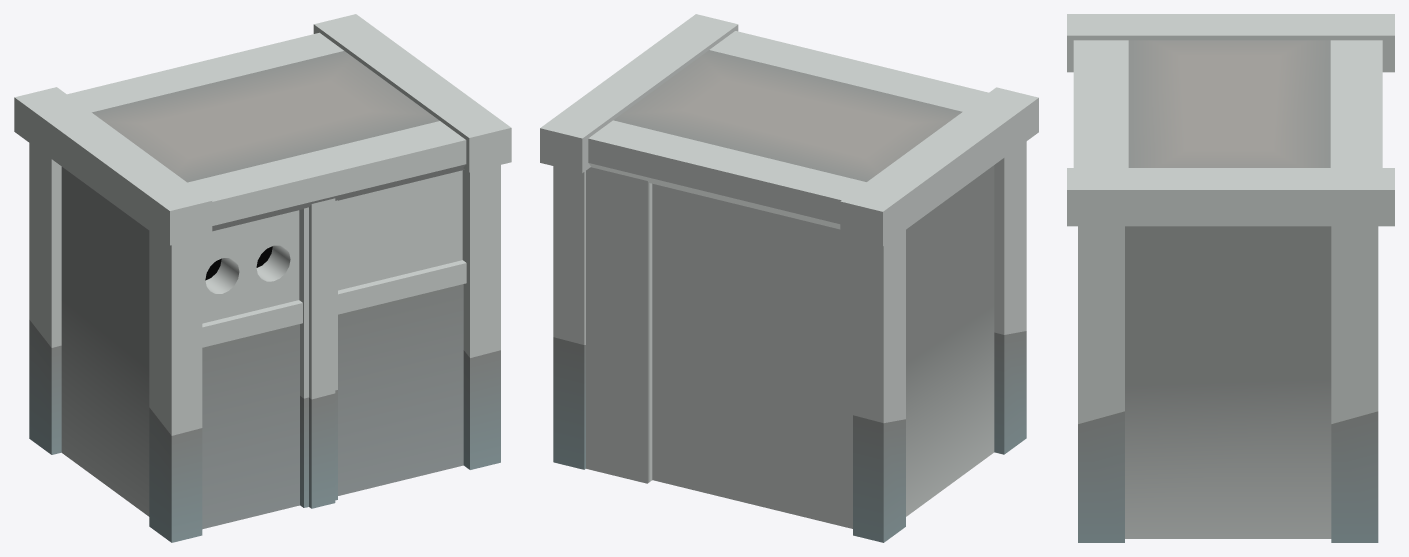
3 views of the same model, side by side, from view 1: azimuth 30°, elevation 25°; view 2: azimuth 150°, elevation 25°; view 3: azimuth 270°, elevation 25° (orthographic). The views are drawn at different scales.
Parts seen in each view (by area): view 1: G:\FFXIV-MapTools\exports\x6f3\bg\ex5\01_xkt_x6\fld\x6f3\bgp (×6); view 2: G:\FFXIV-MapTools\exports\x6f3\bg\ex5\01_xkt_x6\fld\x6f3\bgp (×5); view 3: G:\FFXIV-MapTools\exports\x6f3\bg\ex5\01_xkt_x6\fld\x6f3\bgp (×3).
Part boxes in pixels (<box>): G:\FFXIV-MapTools\exports\x6f3\bg\ex5\01_xkt_x6\fld\x6f3\bgp (×6): <box>14,14,511,542</box>; G:\FFXIV-MapTools\exports\x6f3\bg\ex5\01_xkt_x6\fld\x6f3\bgp (×5): <box>540,14,1038,542</box>; G:\FFXIV-MapTools\exports\x6f3\bg\ex5\01_xkt_x6\fld\x6f3\bgp (×3): <box>1067,14,1394,542</box>.
Bounding box in the file's own units: 2 × 1.89 × 1.58.
